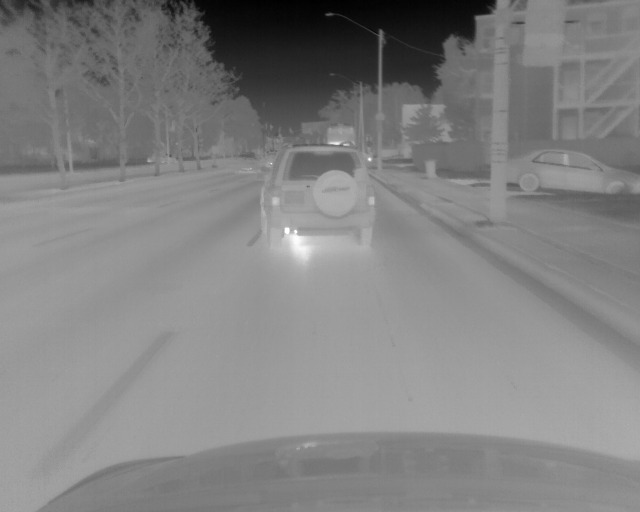car: (259, 144, 376, 255), (502, 147, 640, 199), (235, 154, 260, 176)
